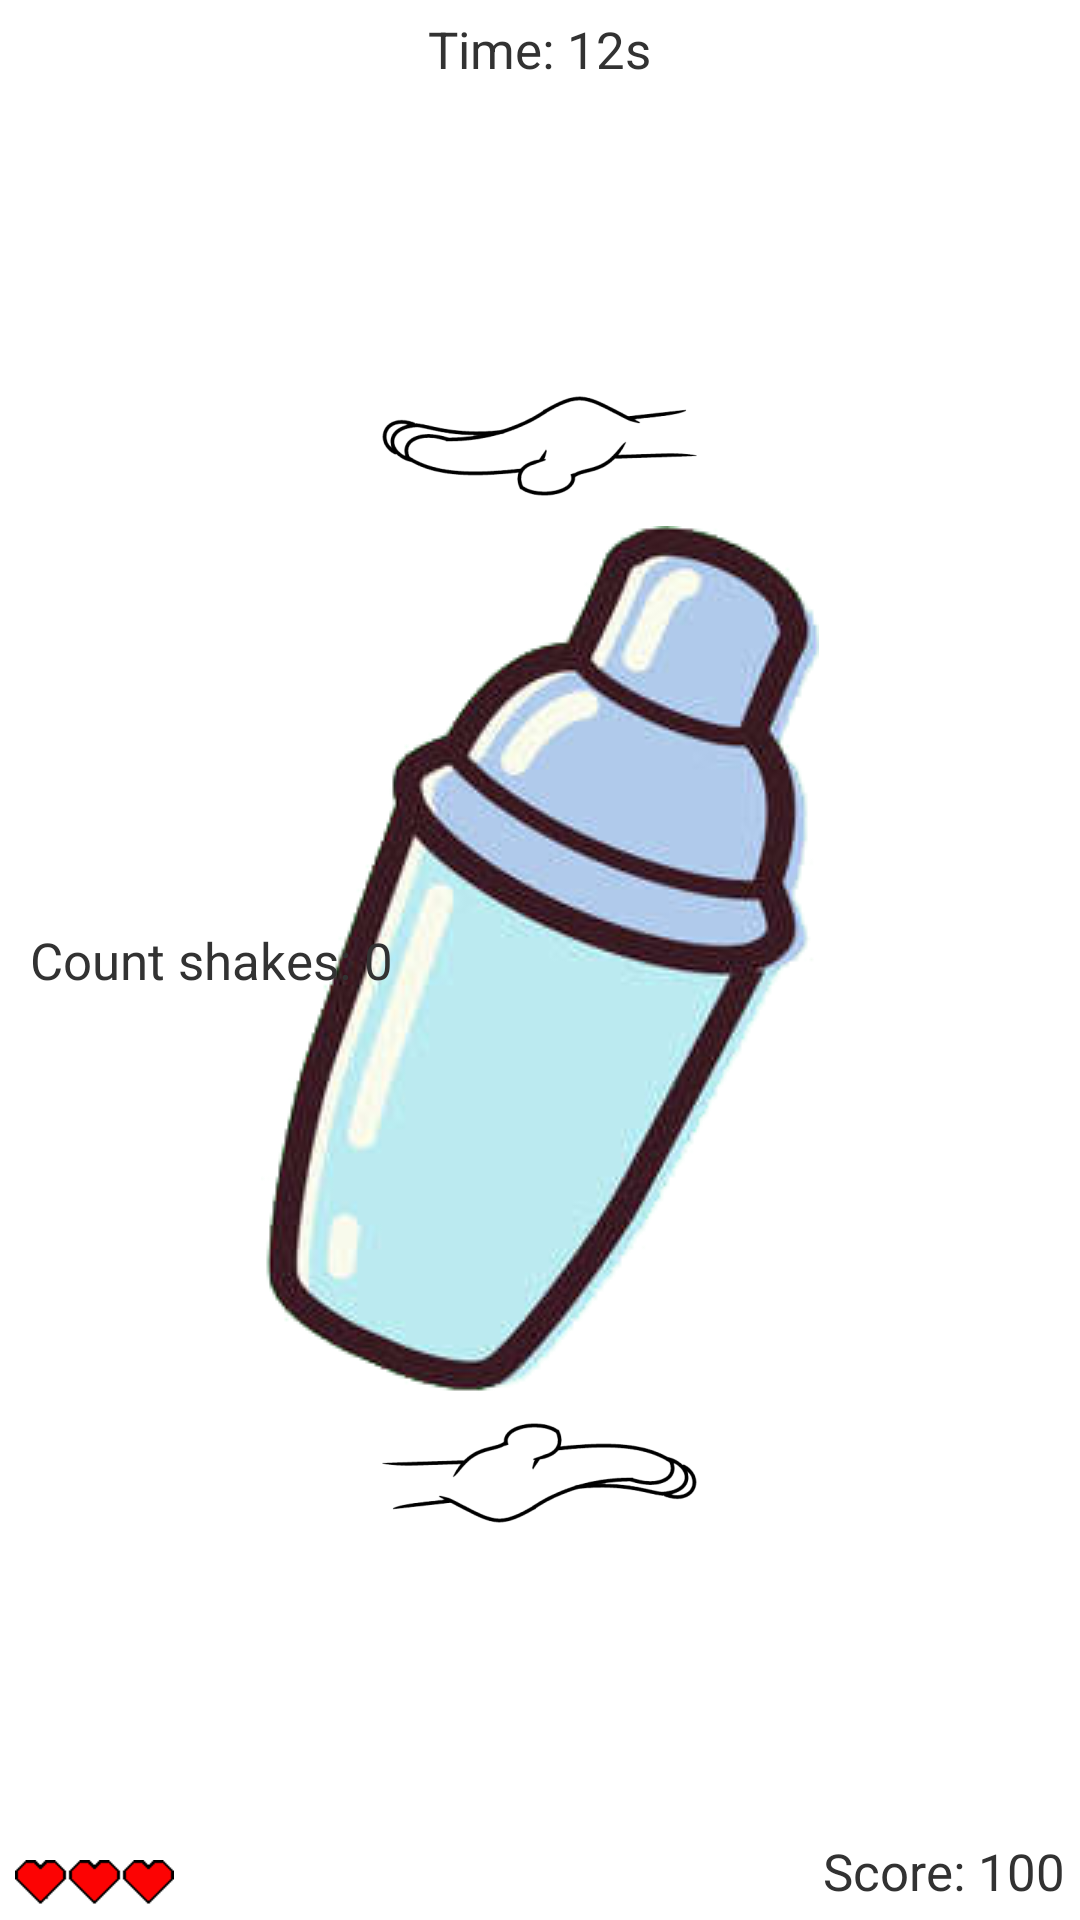

Where to tap for icons on this 1080w x 1920h app screen, as (x,y):
handbottom: (539,1473)
handtop: (539,446)
heart: (94,1882)
